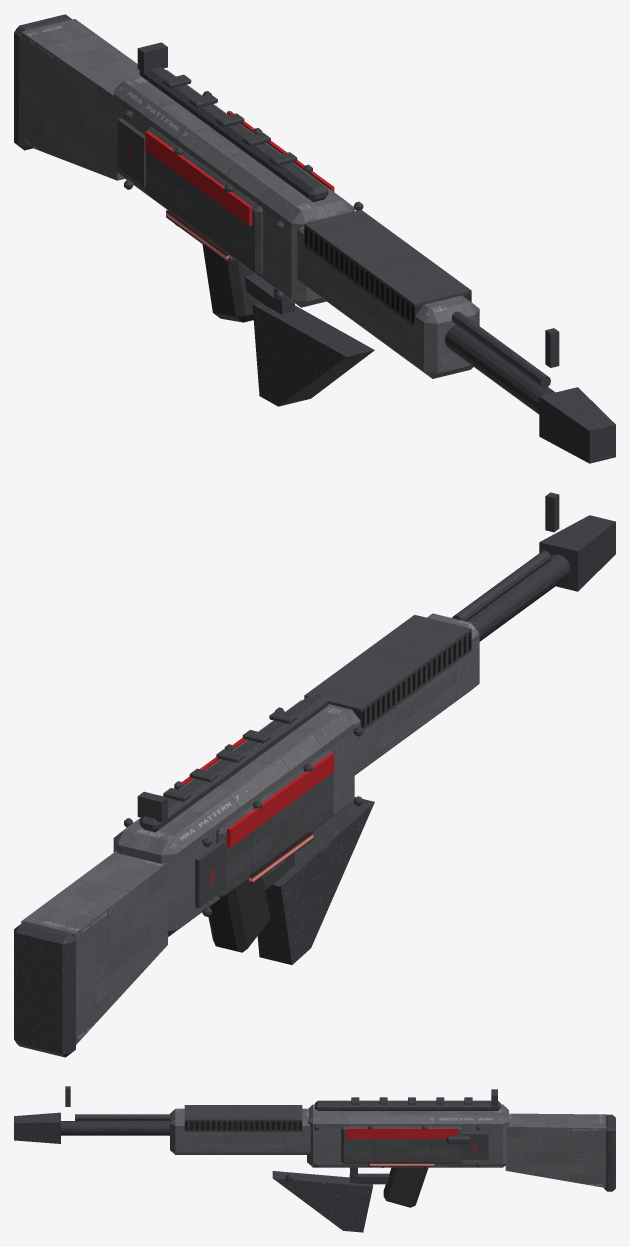
The model's file is mra_rifle.obj.
3 renders of one model, top to bottom at view 1: azimuth 30°, elevation 25°; view 2: azimuth 150°, elevation 25°; view 3: azimuth 270°, elevation 25°, orthographic. The views are drawn at different scales.
Visible parts, largest first — view 1: mra_rifle; view 2: mra_rifle; view 3: mra_rifle.
Part boxes in pixels (left/top/right/bottom): mra_rifle: left=14, top=14, right=615, bottom=463; mra_rifle: left=14, top=492, right=615, bottom=1057; mra_rifle: left=14, top=1086, right=615, bottom=1232.
Bounding box in the file's own units: 0.0858 × 0.2307 × 0.894.
Materials: 1 (1 with a texture image).
